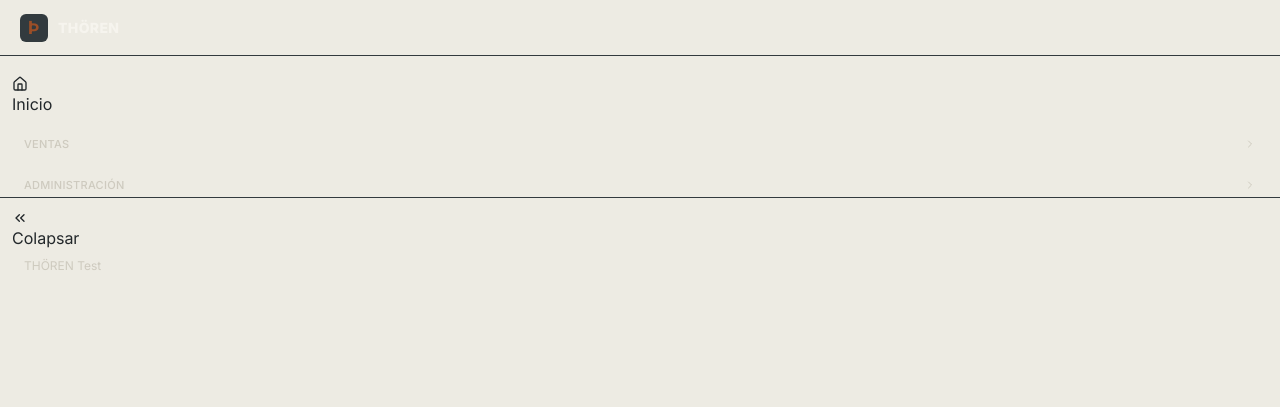
it: Sidebar — control de acceso por departamentos (filtro ADITIVO sobre el de siempre) › vendedor con Ventas asignado ve únicamente el departamento de Ventas — Compras no aparece ni siquiera su encabezado
This screenshot has width=1280, height=407.
Click the button "Ventas" at (47,144), box [12, 132, 1268, 156]
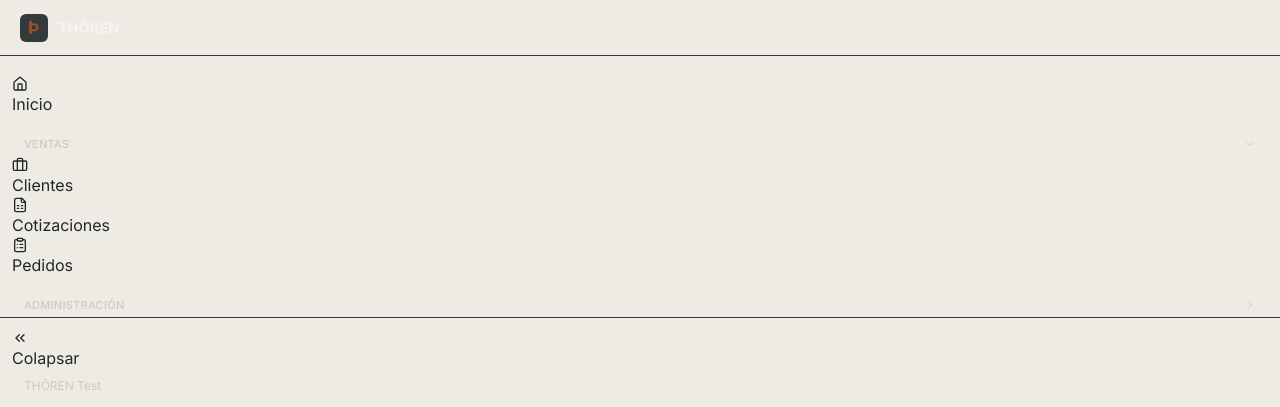
Check: the link "Clientes" is shown, box [12, 156, 73, 194]
Check: the link "Cotizaciones" is shown, box [12, 196, 110, 234]
